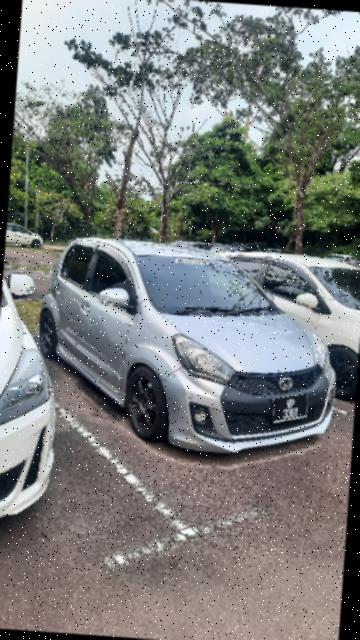License_Plate: (269, 392, 311, 428)
car: (30, 226, 349, 462), (1, 245, 88, 535), (202, 245, 360, 400)
